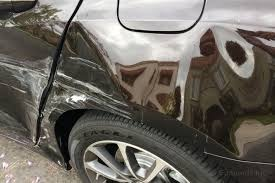Dent: (192, 33, 270, 157), (32, 22, 117, 104)
Scratch: (45, 76, 133, 116)
